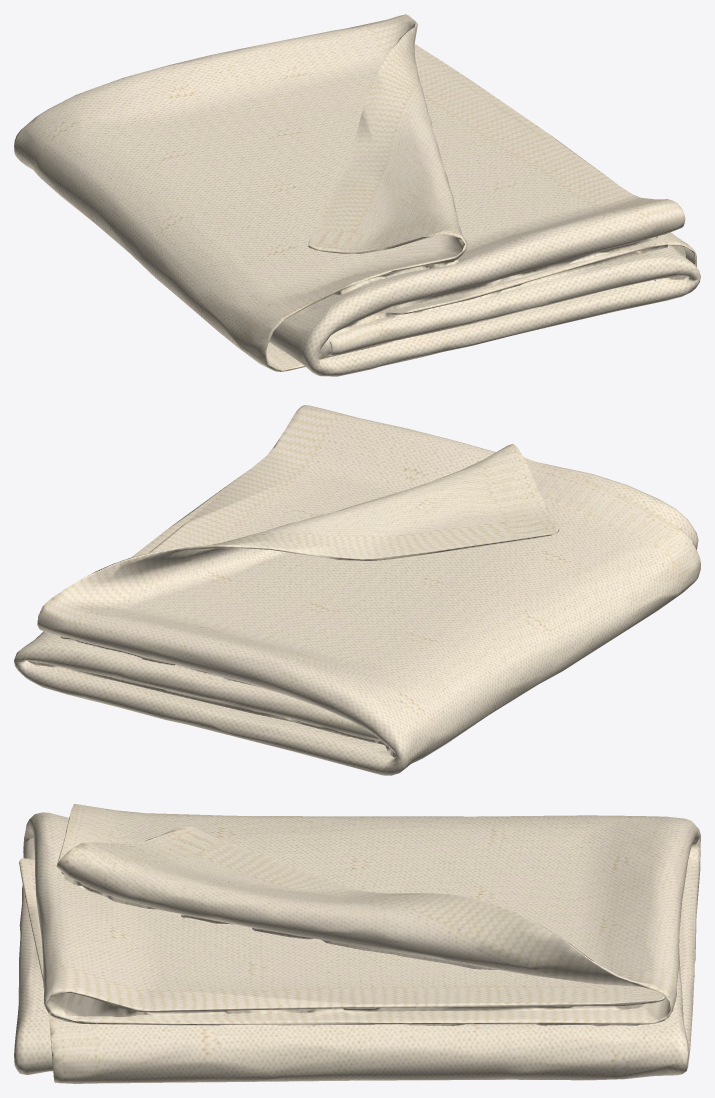
Rendered from len_kocyk_80625094.glb.
3 views of the same model, one above another, from view 1: azimuth 30°, elevation 25°; view 2: azimuth 150°, elevation 25°; view 3: azimuth 270°, elevation 25° (orthographic). The views are drawn at different scales.
Visible parts, largest first — view 1: len_kocyk_80625094; view 2: len_kocyk_80625094; view 3: len_kocyk_80625094.
Boxes of the visible parts, x1,y1,x2,y2 form: len_kocyk_80625094: (14,14,700,376); len_kocyk_80625094: (14,405,700,775); len_kocyk_80625094: (14,804,700,1083).
Bounding box in the file's own units: 0.2609 × 0.0624 × 0.3201.
Materials: 1 (1 with a texture image).
